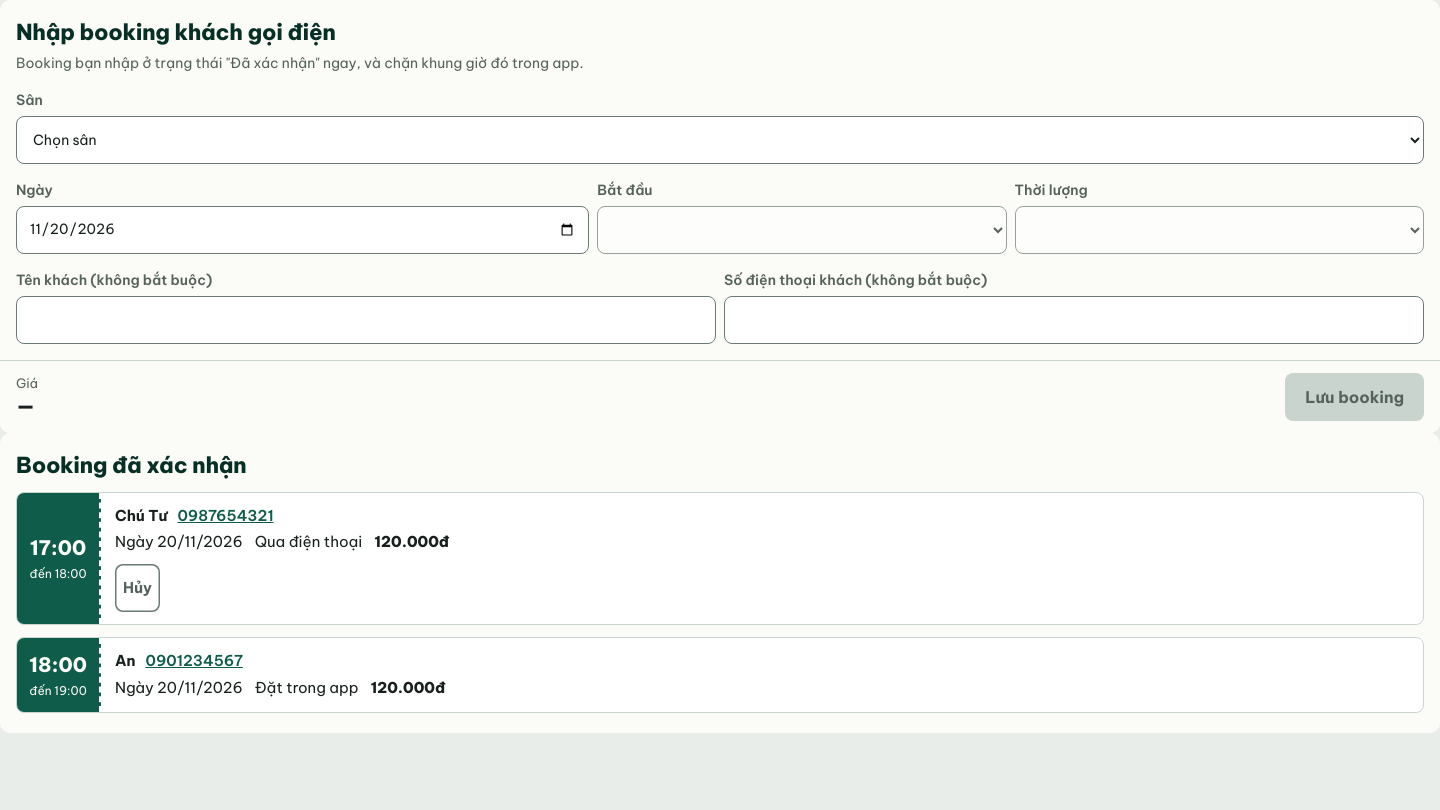
it: PhoneBookings › AC-18: only the future PHONE booking has "Hủy", the ended one is hidden, and a cancelled row stays as "Đã hủy"
The image size is (1440, 810).
expect the text "Chú Tư" is shown: met, box [115, 506, 168, 525]
expect the number of list items is 2: met, box [16, 492, 1424, 625]; [16, 637, 1424, 713]
// "Giữ booking" backs out, and focus returns to "Hủy".
Click the button "Hủy": (138, 588) [115, 564, 160, 612]
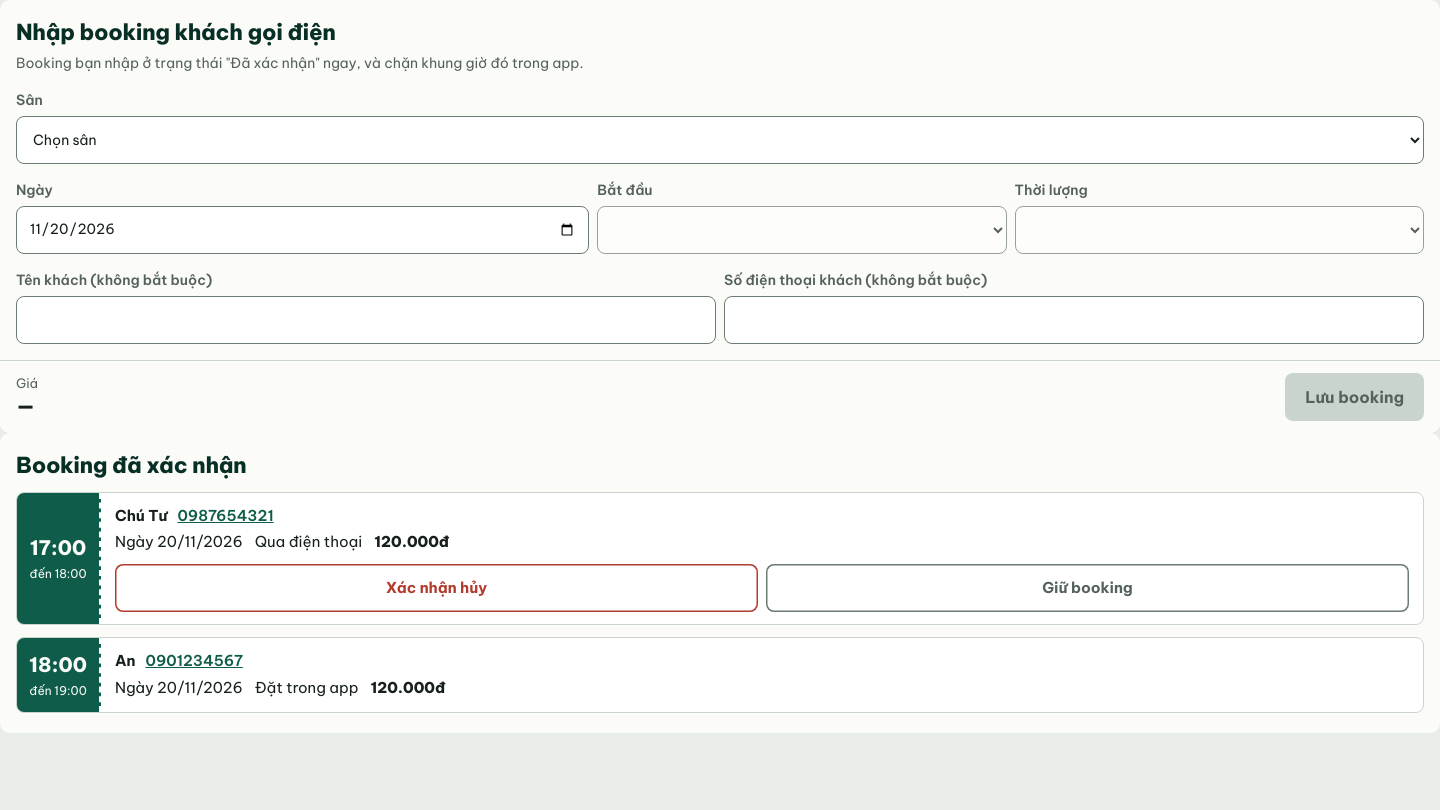
Click the button "Giữ booking": (1088, 588) [766, 564, 1409, 612]
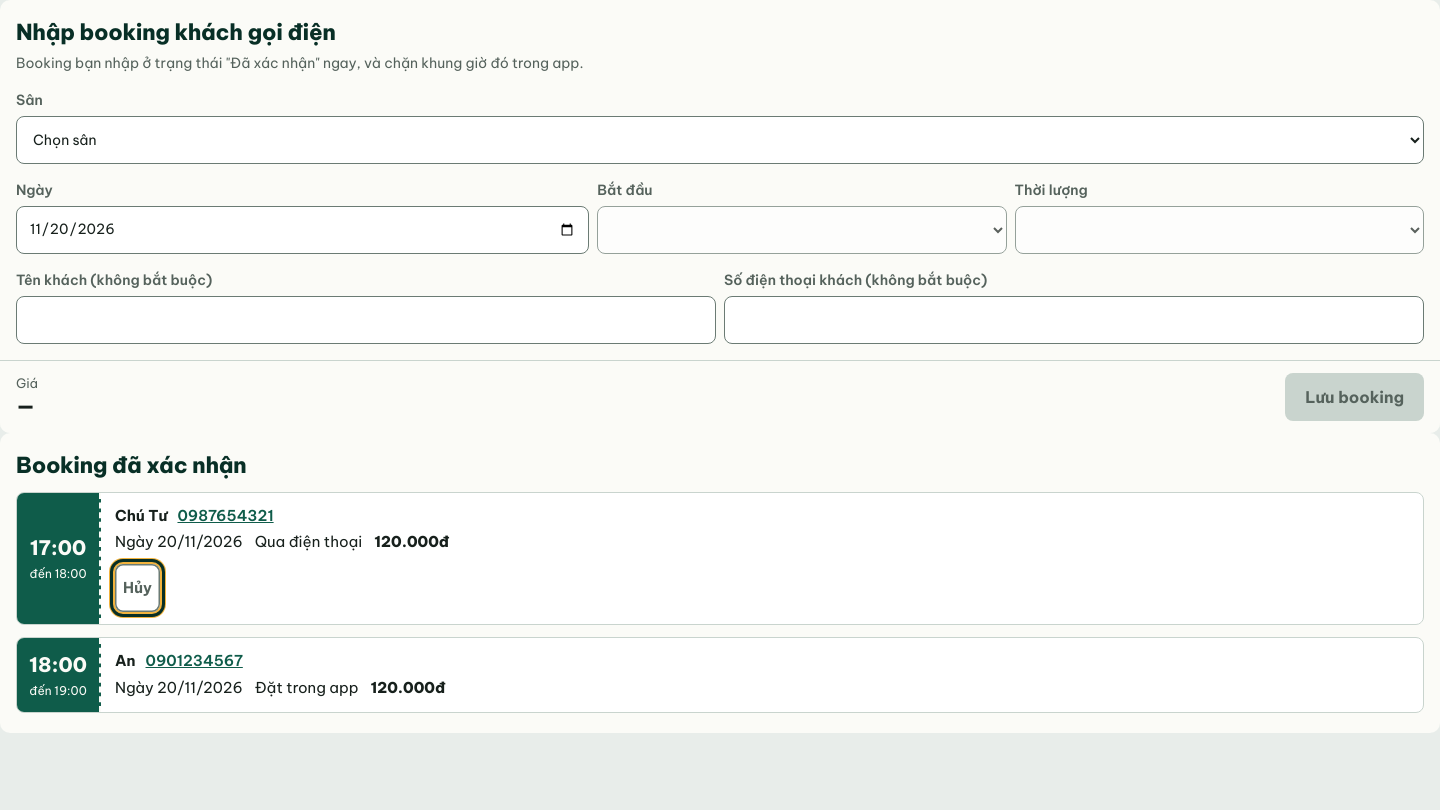
expect the button "Hủy" is shown: met
Click the button "Hủy": (138, 588) [115, 564, 160, 612]
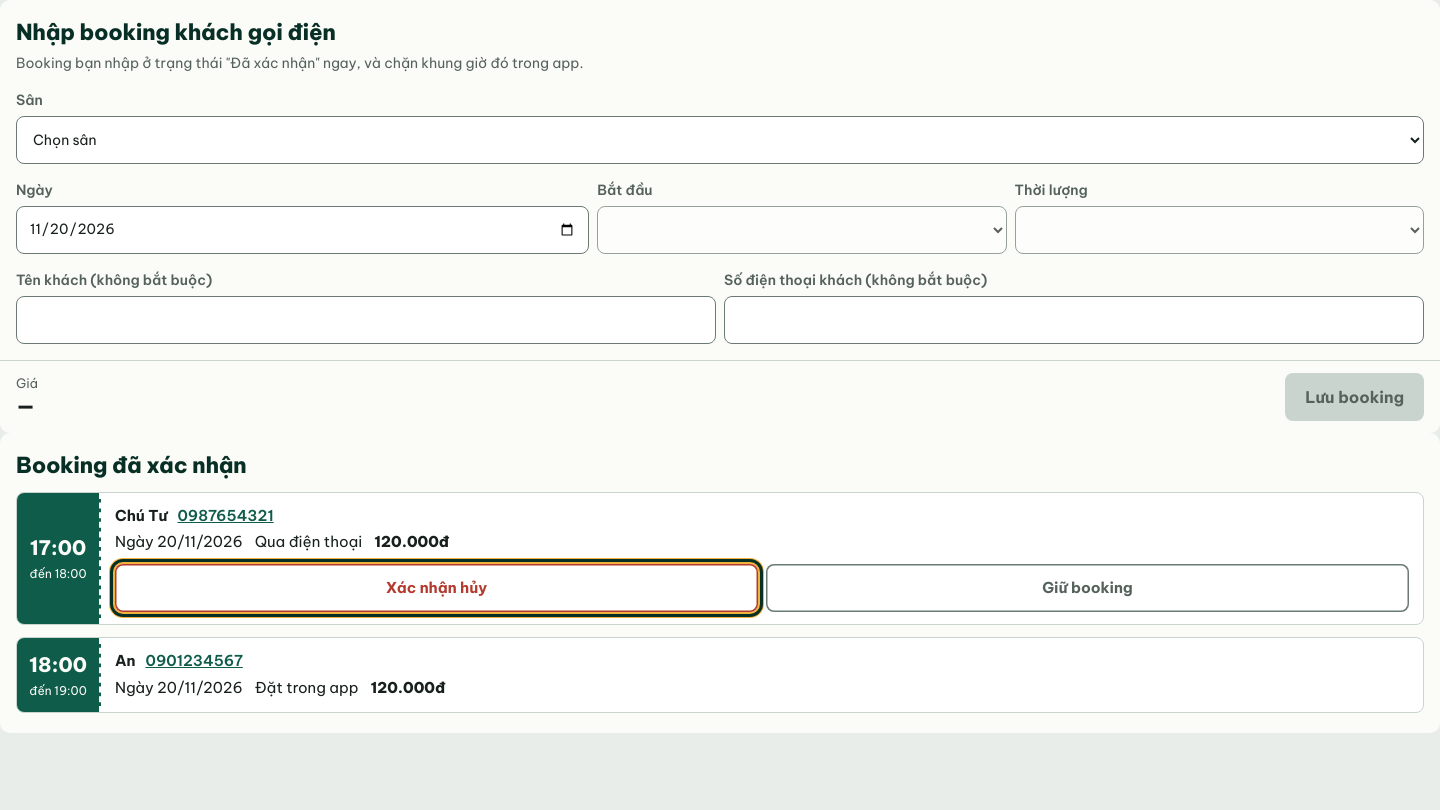
Click the button "Xác nhận hủy": (436, 588) [115, 564, 758, 612]
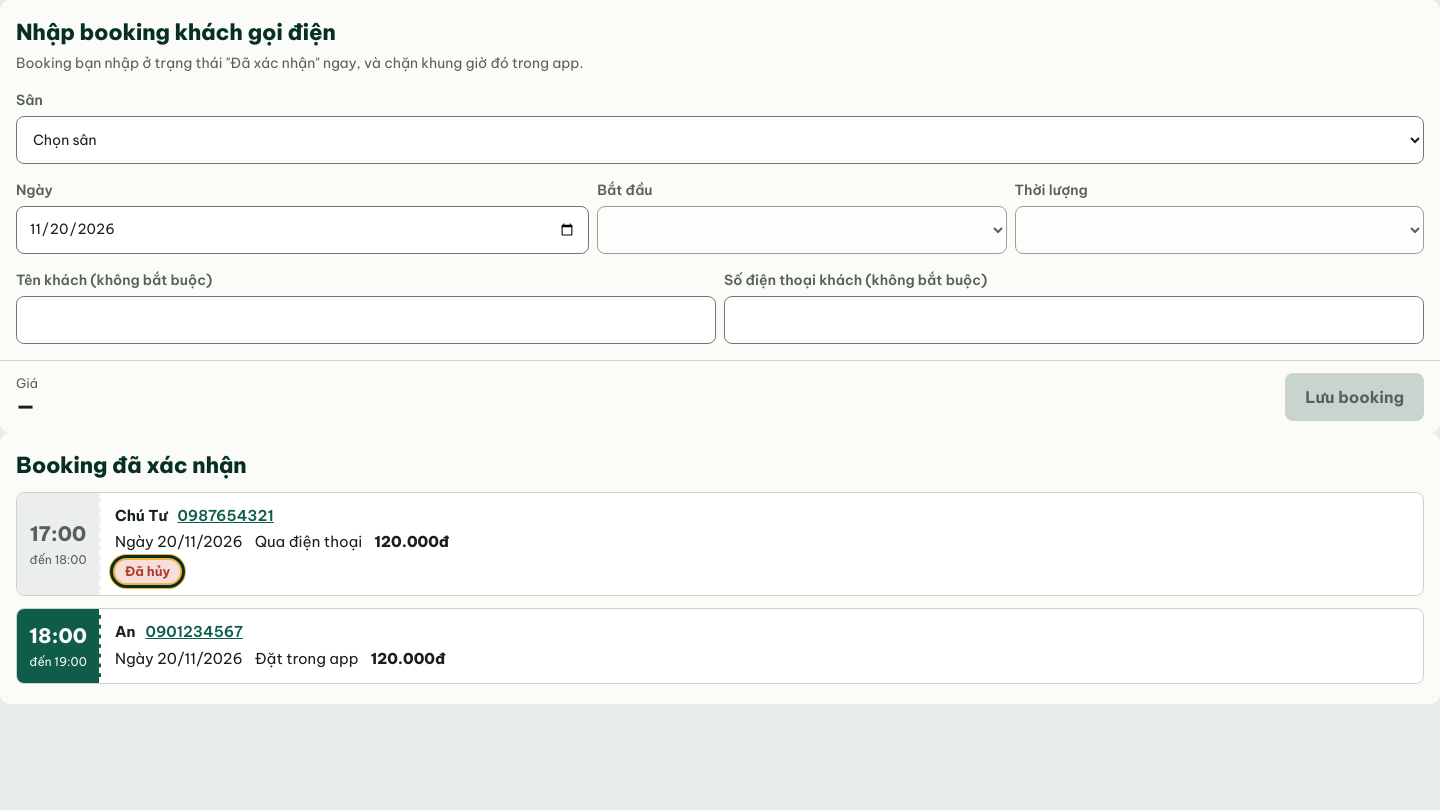
expect the text "Chú Tư" is shown: met, box [115, 506, 168, 525]
expect the text "Đã hủy" is shown: met, box [115, 560, 180, 584]
